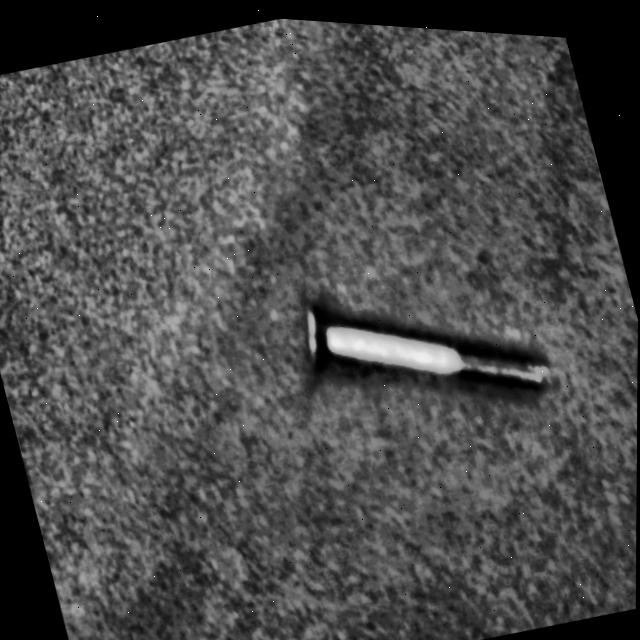Flat head socket screw: (290, 234, 557, 444)
